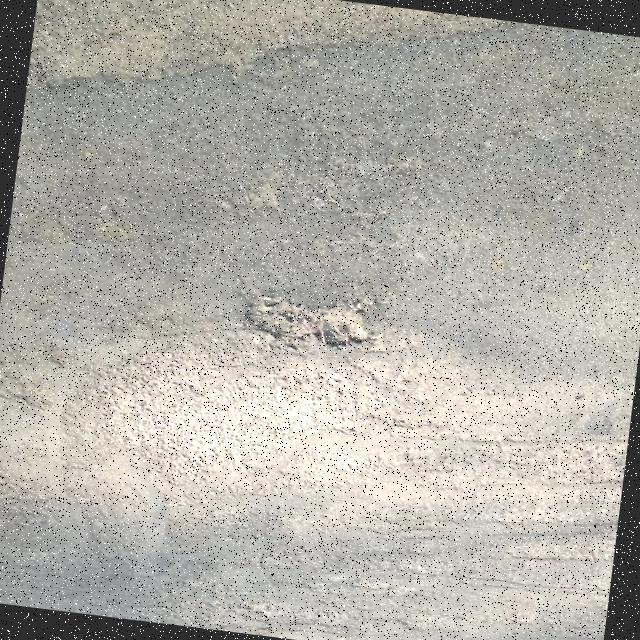Pothole: (245, 290, 383, 351)
